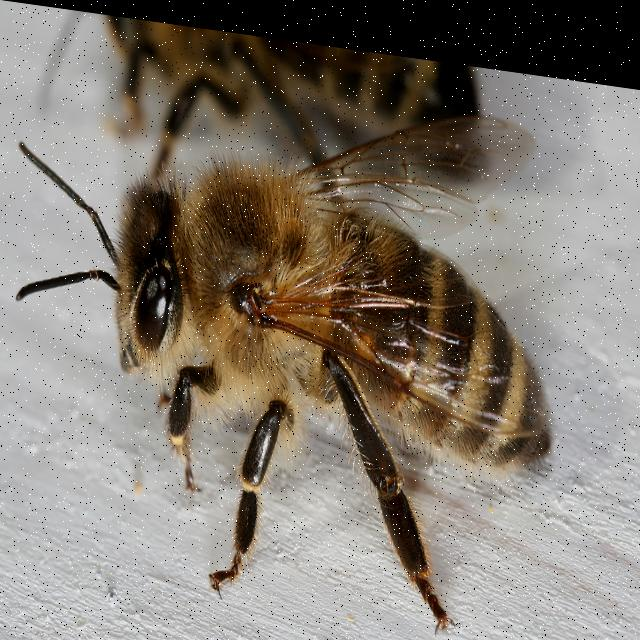Apis-mellifera-scutellata: (5, 91, 613, 640)
